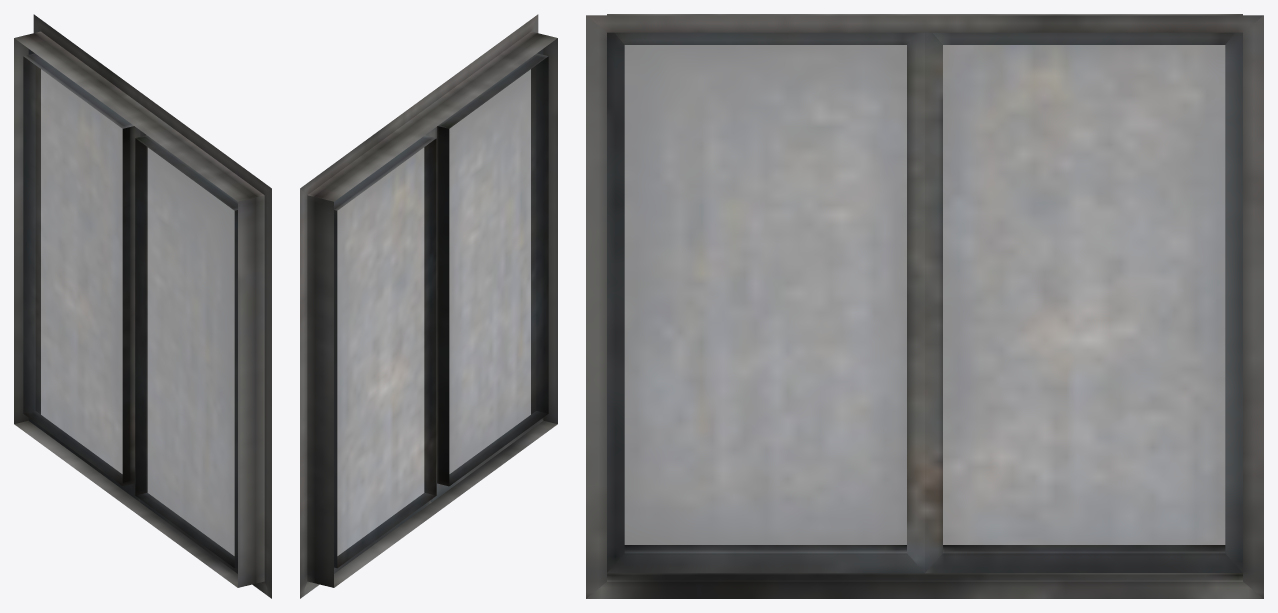
The model's file is SingleWindow_02.FBX.
3 views of the same model, side by side, from view 1: azimuth 30°, elevation 25°; view 2: azimuth 150°, elevation 25°; view 3: azimuth 270°, elevation 25° (orthographic). The views are drawn at different scales.
Parts seen in each view (by area): view 1: SingleWindow_02; view 2: SingleWindow_02; view 3: SingleWindow_02.
Part boxes in pixels (x1,y1,x2,y2): SingleWindow_02: (14,14,271,598); SingleWindow_02: (300,14,557,598); SingleWindow_02: (586,14,1263,598).
Bounding box in the file's own units: 13.82 × 203 × 213.
